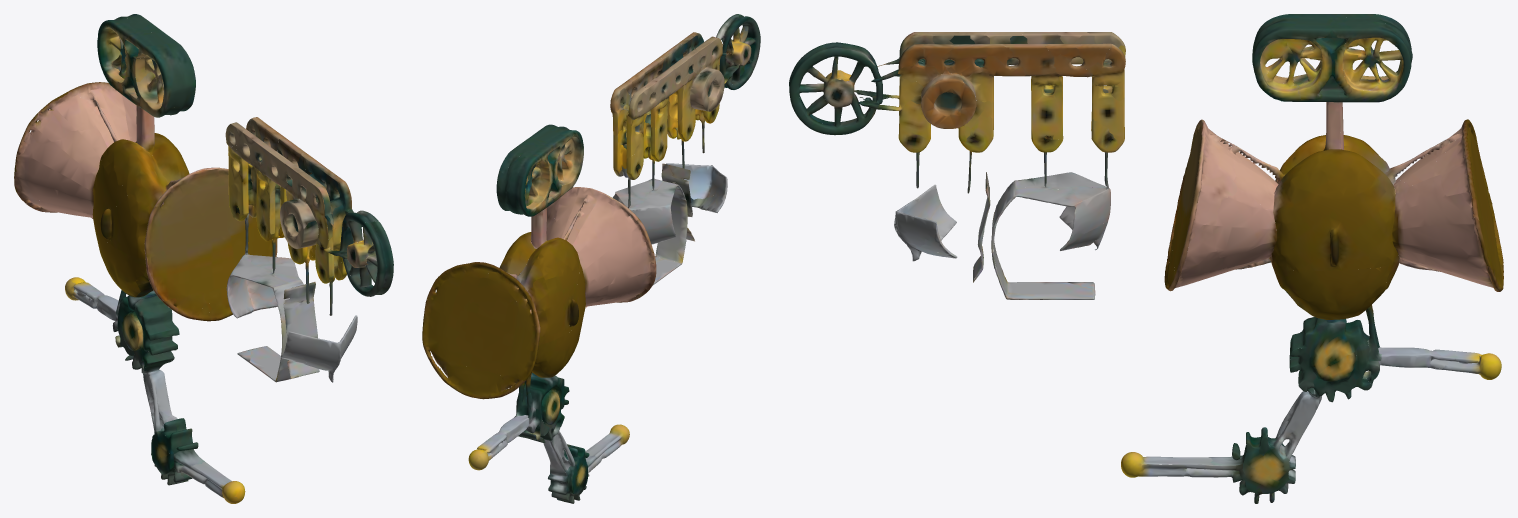
Rendered from MachineTop0.glb.
3 renders of one model, left to right at view 1: azimuth 30°, elevation 25°; view 2: azimuth 150°, elevation 25°; view 3: azimuth 270°, elevation 25°, orthographic. The views are drawn at different scales.
Parts seen in each view (by area): view 1: tripo_node_87a756e1-b3e1-49b2-9bcd-366e896153b9; view 2: tripo_node_87a756e1-b3e1-49b2-9bcd-366e896153b9; view 3: tripo_node_87a756e1-b3e1-49b2-9bcd-366e896153b9.
Part boxes in pixels (left/top/right/bottom): tripo_node_87a756e1-b3e1-49b2-9bcd-366e896153b9: left=14, top=14, right=393, bottom=503; tripo_node_87a756e1-b3e1-49b2-9bcd-366e896153b9: left=422, top=14, right=760, bottom=503; tripo_node_87a756e1-b3e1-49b2-9bcd-366e896153b9: left=789, top=14, right=1503, bottom=503.
Size of the model in its own units: 1.24 by 3.88 by 5.25.
Materials: 1 (1 with a texture image).
